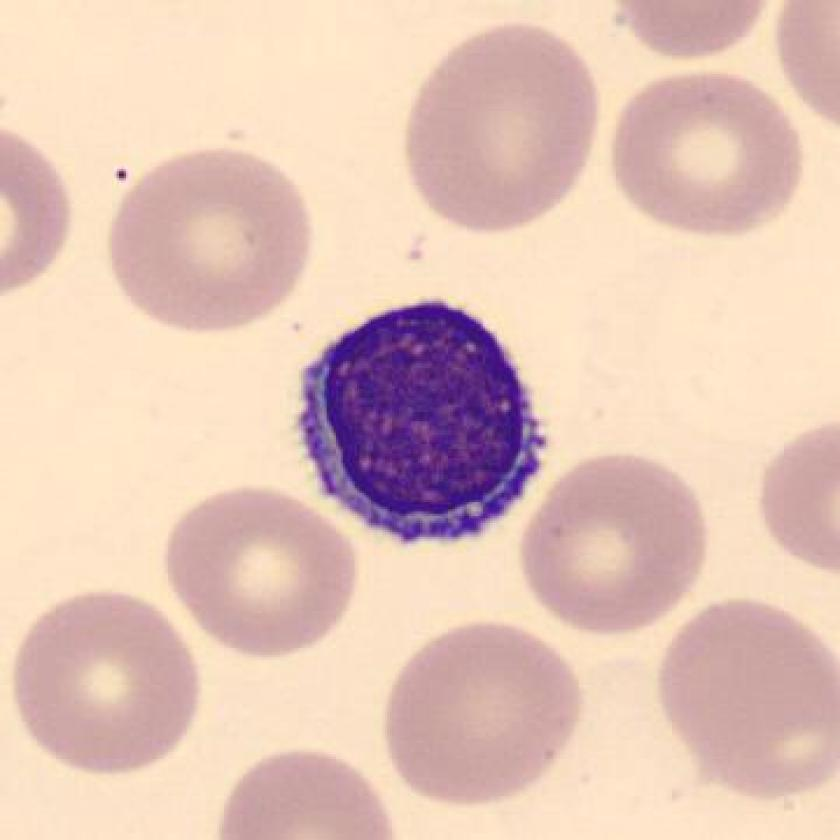lymphocyte: (281, 288, 556, 556)
